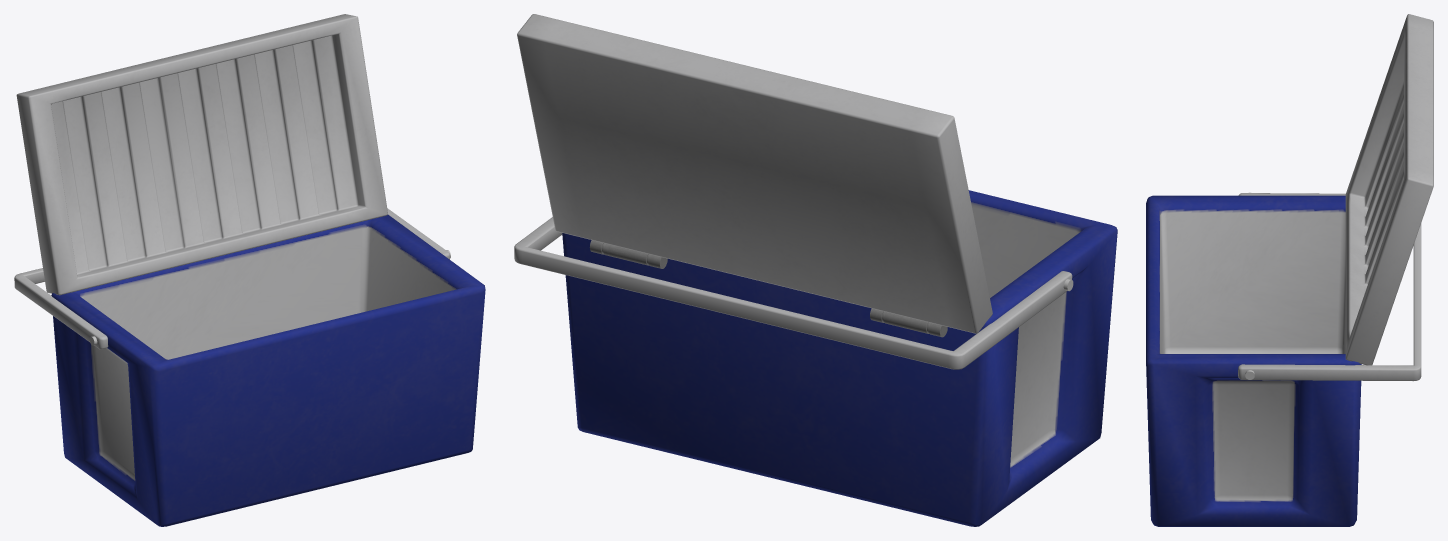
File: Cooler_Box.fbx
3 renders of one model, left to right at view 1: azimuth 30°, elevation 25°; view 2: azimuth 150°, elevation 25°; view 3: azimuth 270°, elevation 25°, orthographic. The views are drawn at different scales.
Visible parts, largest first — view 1: Cooler Box, Cooler Rip; view 2: Cooler Box, Cooler Rip; view 3: Cooler Box, Cooler Rip.
Boxes of the visible parts, x1,y1,x2,y2 form: Cooler Box: (14,208,485,526); Cooler Rip: (16,14,387,295); Cooler Box: (514,190,1117,526); Cooler Rip: (517,14,992,333); Cooler Box: (1146,192,1421,526); Cooler Rip: (1345,14,1433,365).
Bounding box in the file's own units: 249 × 230 × 169.
